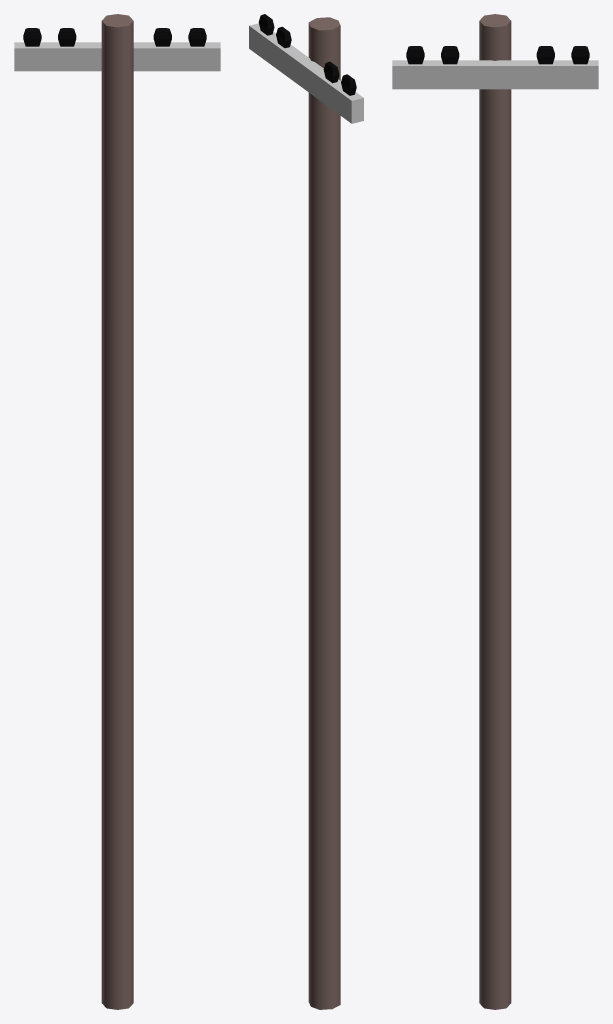
Rendered from PowerPost.fbx.
3 views of the same model, side by side, from view 1: azimuth 90°, elevation 25°; view 2: azimuth 210°, elevation 25°; view 3: azimuth 270°, elevation 25° (orthographic).
Parts seen in each view (by area): view 1: Plane.048; view 2: Plane.048; view 3: Plane.048.
Boxes of the visible parts, bbox=[...] form: Plane.048: bbox=[14, 14, 220, 1009]; Plane.048: bbox=[249, 14, 363, 1009]; Plane.048: bbox=[392, 14, 598, 1009].
Size of the model in its own units: 12.91 by 318 by 60.45.
